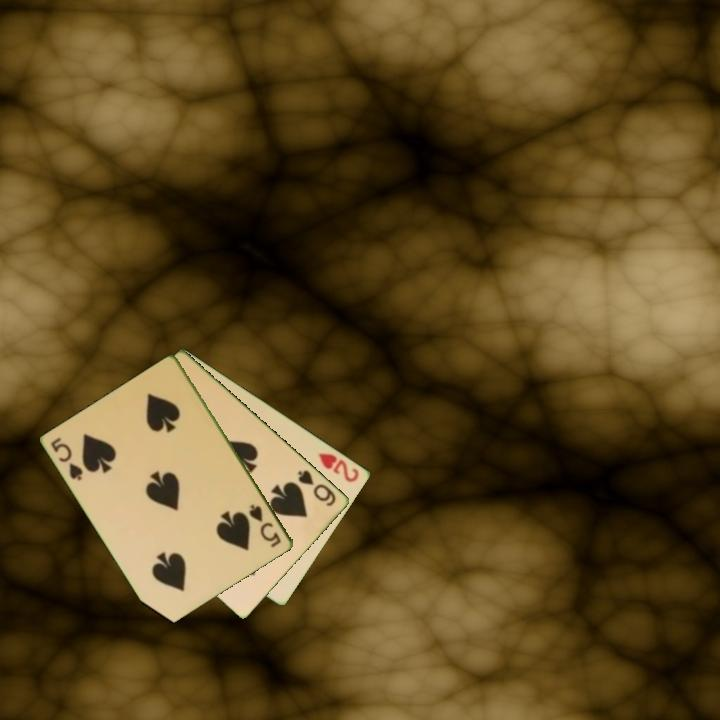2h: (315, 449, 362, 485)
5s: (246, 500, 284, 551), (48, 434, 86, 484)
6s: (294, 466, 339, 509)
